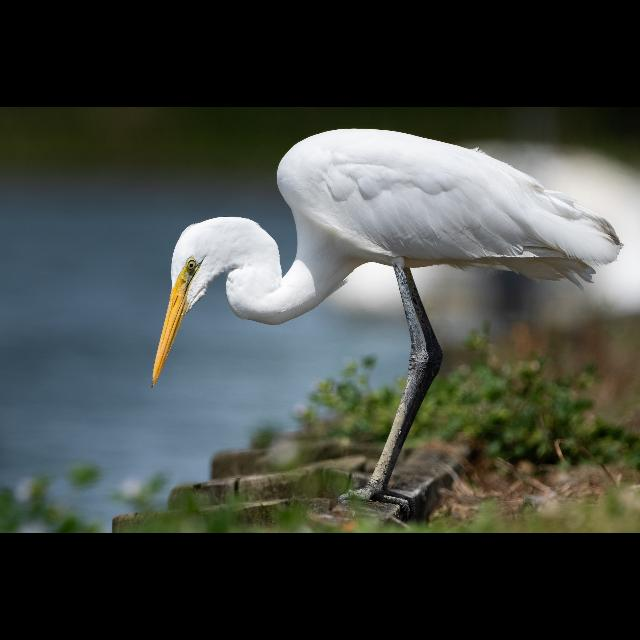egret: (142, 123, 628, 491)
